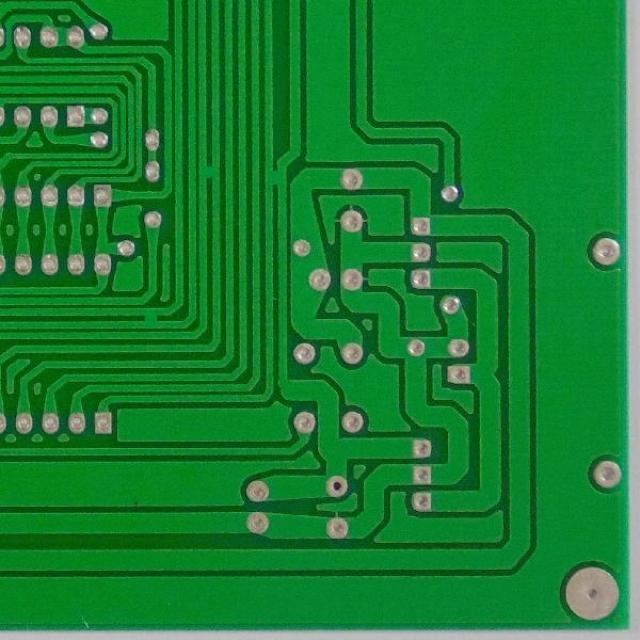Missing_Hole: (324, 474, 348, 502)
Short_Circuit: (261, 162, 290, 194), (196, 158, 222, 186), (135, 304, 160, 333)
